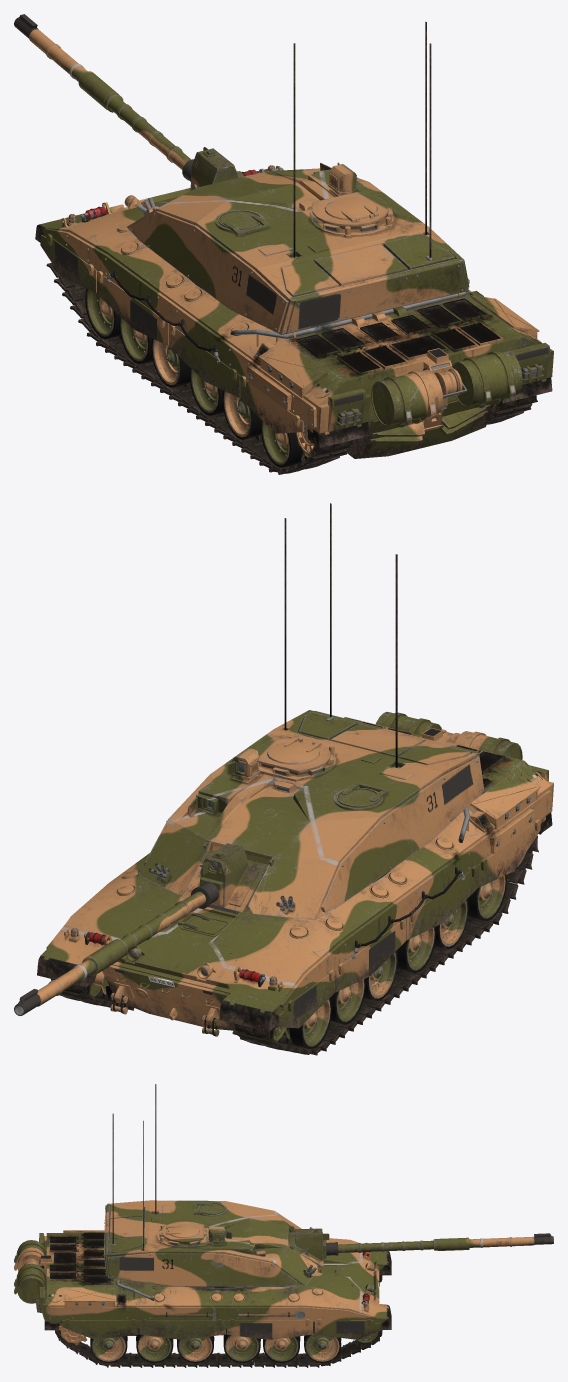
The model's file is hero.glb.
The picture shows the model from 3 angles, top to bottom: view 1: azimuth 30°, elevation 25°; view 2: azimuth 150°, elevation 25°; view 3: azimuth 270°, elevation 25°; orthographic projection. The views are drawn at different scales.
Visible parts, largest first — view 1: hull, turret, gun; view 2: hull, turret, gun; view 3: hull, turret, gun.
Part boxes in pixels (x1,y1,x2,y2): hull: (35,165,553,474); turret: (127,21,469,334); gun: (14,14,244,196); hull: (37,712,553,1055); turret: (139,503,484,919); gun: (14,843,268,1015); hull: (14,1230,391,1367); turret: (103,1084,317,1287); gun: (289,1228,553,1267).
Size of the model in its own units: 3.55 by 5.31 by 11.03.
Materials: 5 (5 with a texture image).
